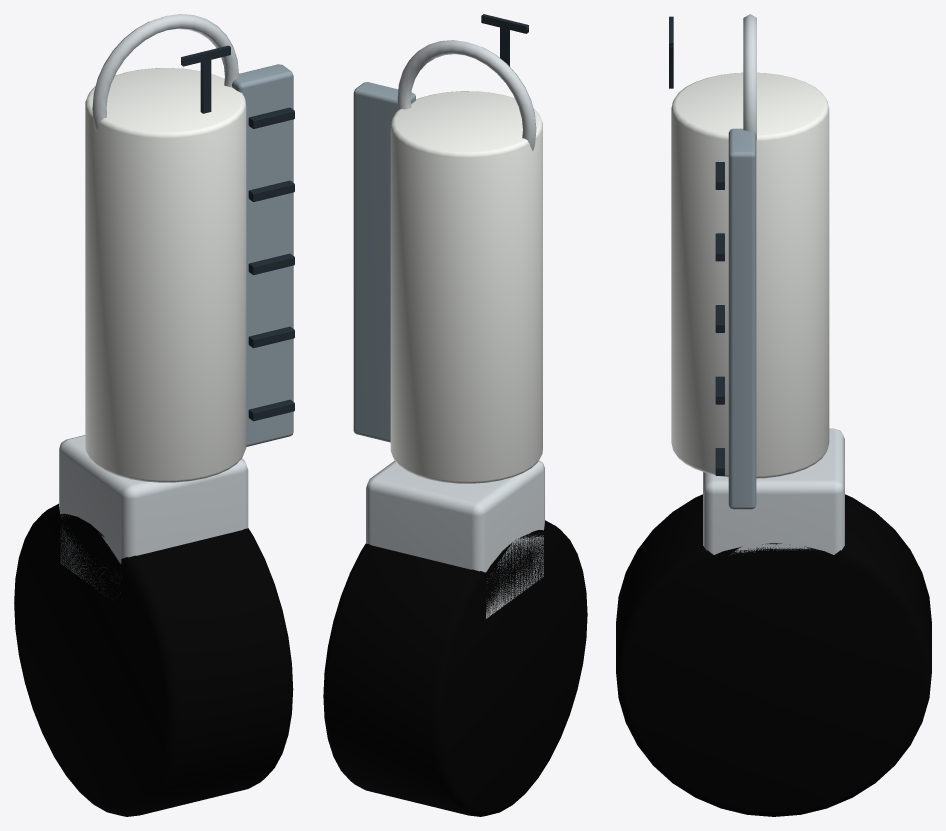
The model's file is temperature-gauge.glb.
The picture shows the model from 3 angles, left to right: view 1: azimuth 30°, elevation 25°; view 2: azimuth 150°, elevation 25°; view 3: azimuth 270°, elevation 25°; orthographic projection. The views are drawn at different scales.
Parts seen in each view (by area): view 1: temperature saddle clamp body, temperature glass tube, temperature scale backplate, temperature thermowell boss, temperature top guard ring, temperature T label, temperature scale tick 0, temperature scale tick 1, temperature scale tick 2, temperature scale tick 3, temperature scale tick 4; view 2: temperature saddle clamp body, temperature glass tube, temperature thermowell boss, temperature scale backplate, temperature top guard ring, temperature T label; view 3: temperature saddle clamp body, temperature glass tube, temperature scale backplate, temperature thermowell boss, temperature top guard ring.
Part boxes in pixels (x1,y1,x2,y2): temperature saddle clamp body: (14,503,293,816); temperature glass tube: (85,68,246,482); temperature scale backplate: (232,64,293,446); temperature thermowell boss: (59,435,248,590); temperature top guard ring: (92,14,238,131); temperature T label: (181,45,230,113); temperature scale tick 0: (248,399,294,421); temperature scale tick 1: (248,326,294,348); temperature scale tick 2: (248,253,294,274); temperature scale tick 3: (248,180,294,201); temperature scale tick 4: (248,107,294,128); temperature saddle clamp body: (323,520,587,816); temperature glass tube: (390,91,542,483); temperature thermowell boss: (366,460,544,618); temperature scale backplate: (353,82,415,442); temperature top guard ring: (397,40,536,150); temperature T label: (481,14,528,66); temperature saddle clamp body: (616,494,931,816); temperature glass tube: (671,72,829,478); temperature scale backplate: (728,128,756,509); temperature thermowell boss: (703,428,844,554); temperature top guard ring: (743,14,756,140).
Bounding box in the file's own units: 0.275 × 1.08 × 0.4.
